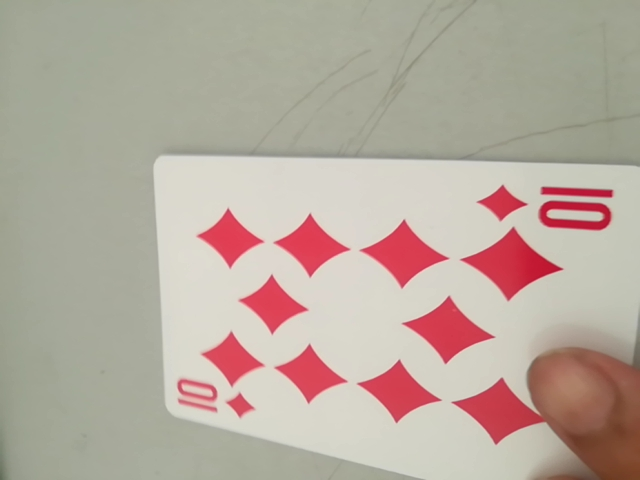fk 10: (476, 178, 632, 237), (168, 374, 265, 423)
